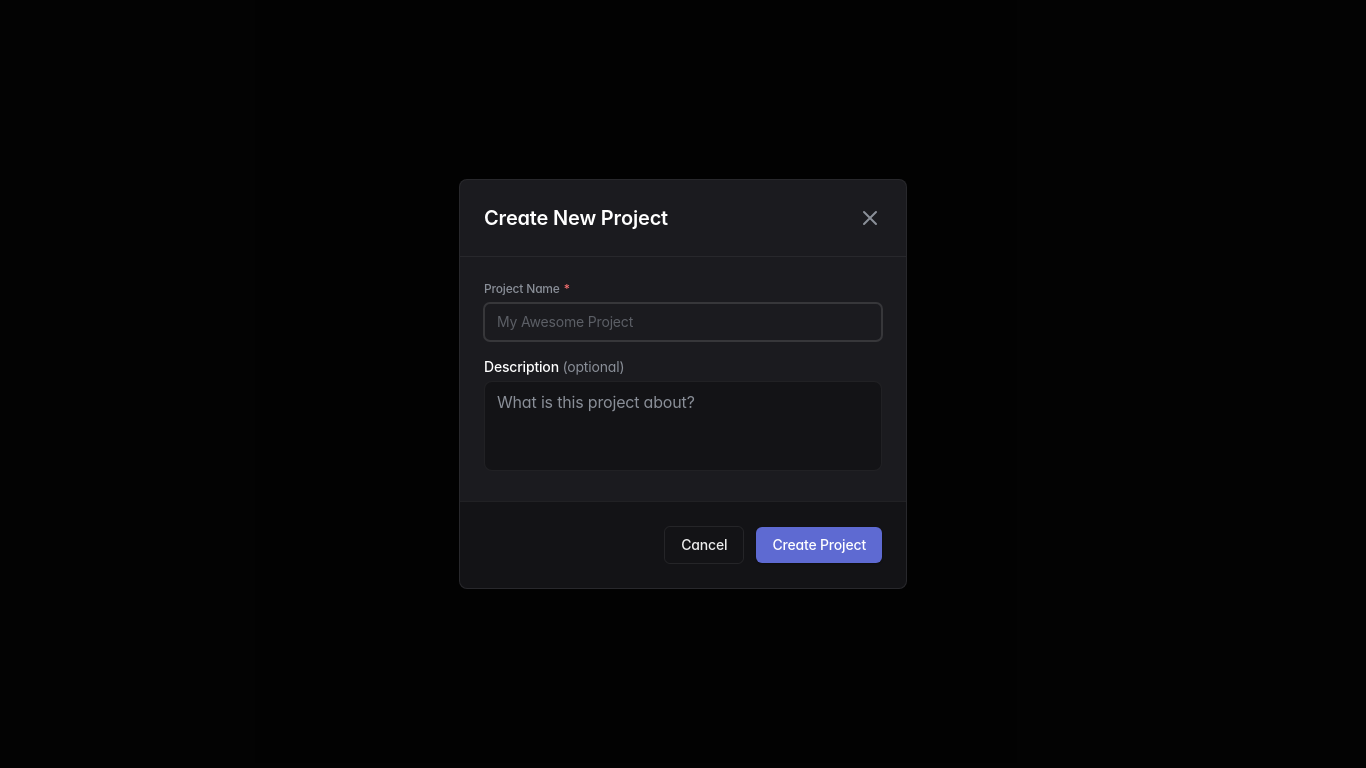
Test: ProjectModal › shows generic error when API throws non-Error object
Type "Some Project" into the field labelled "Project Name*" at (683, 322), box [484, 303, 882, 341]
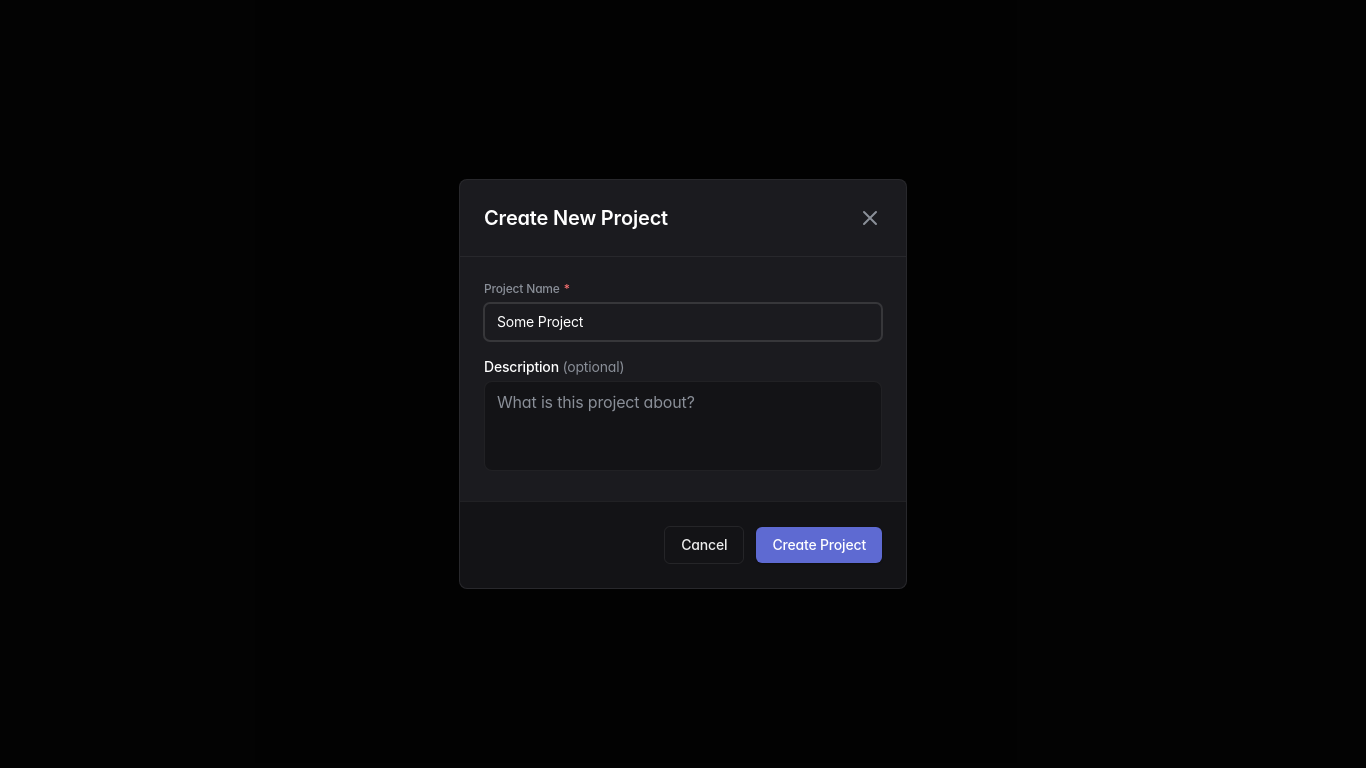
Click the button "Create Project" at (819, 545), box [756, 527, 882, 563]
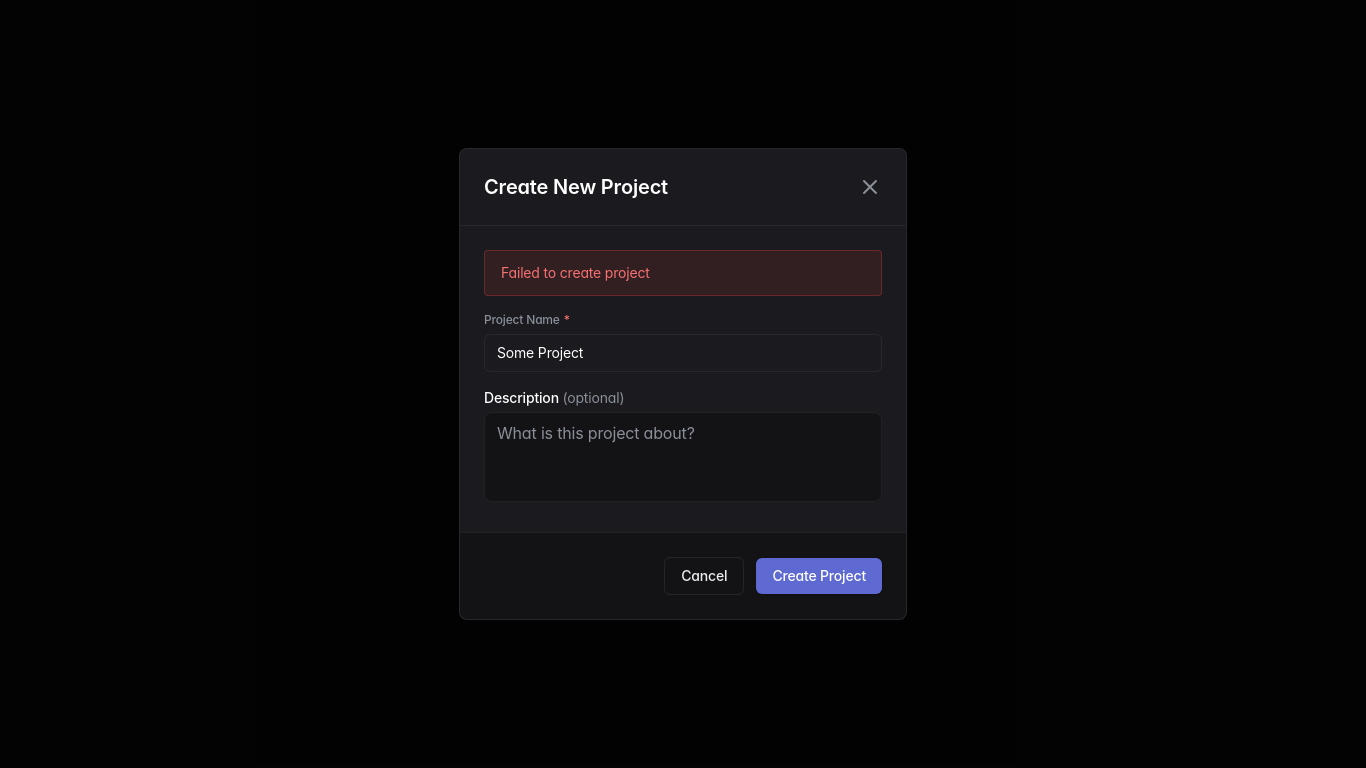
Now the message reads "Failed to create project", box [501, 264, 650, 281]
